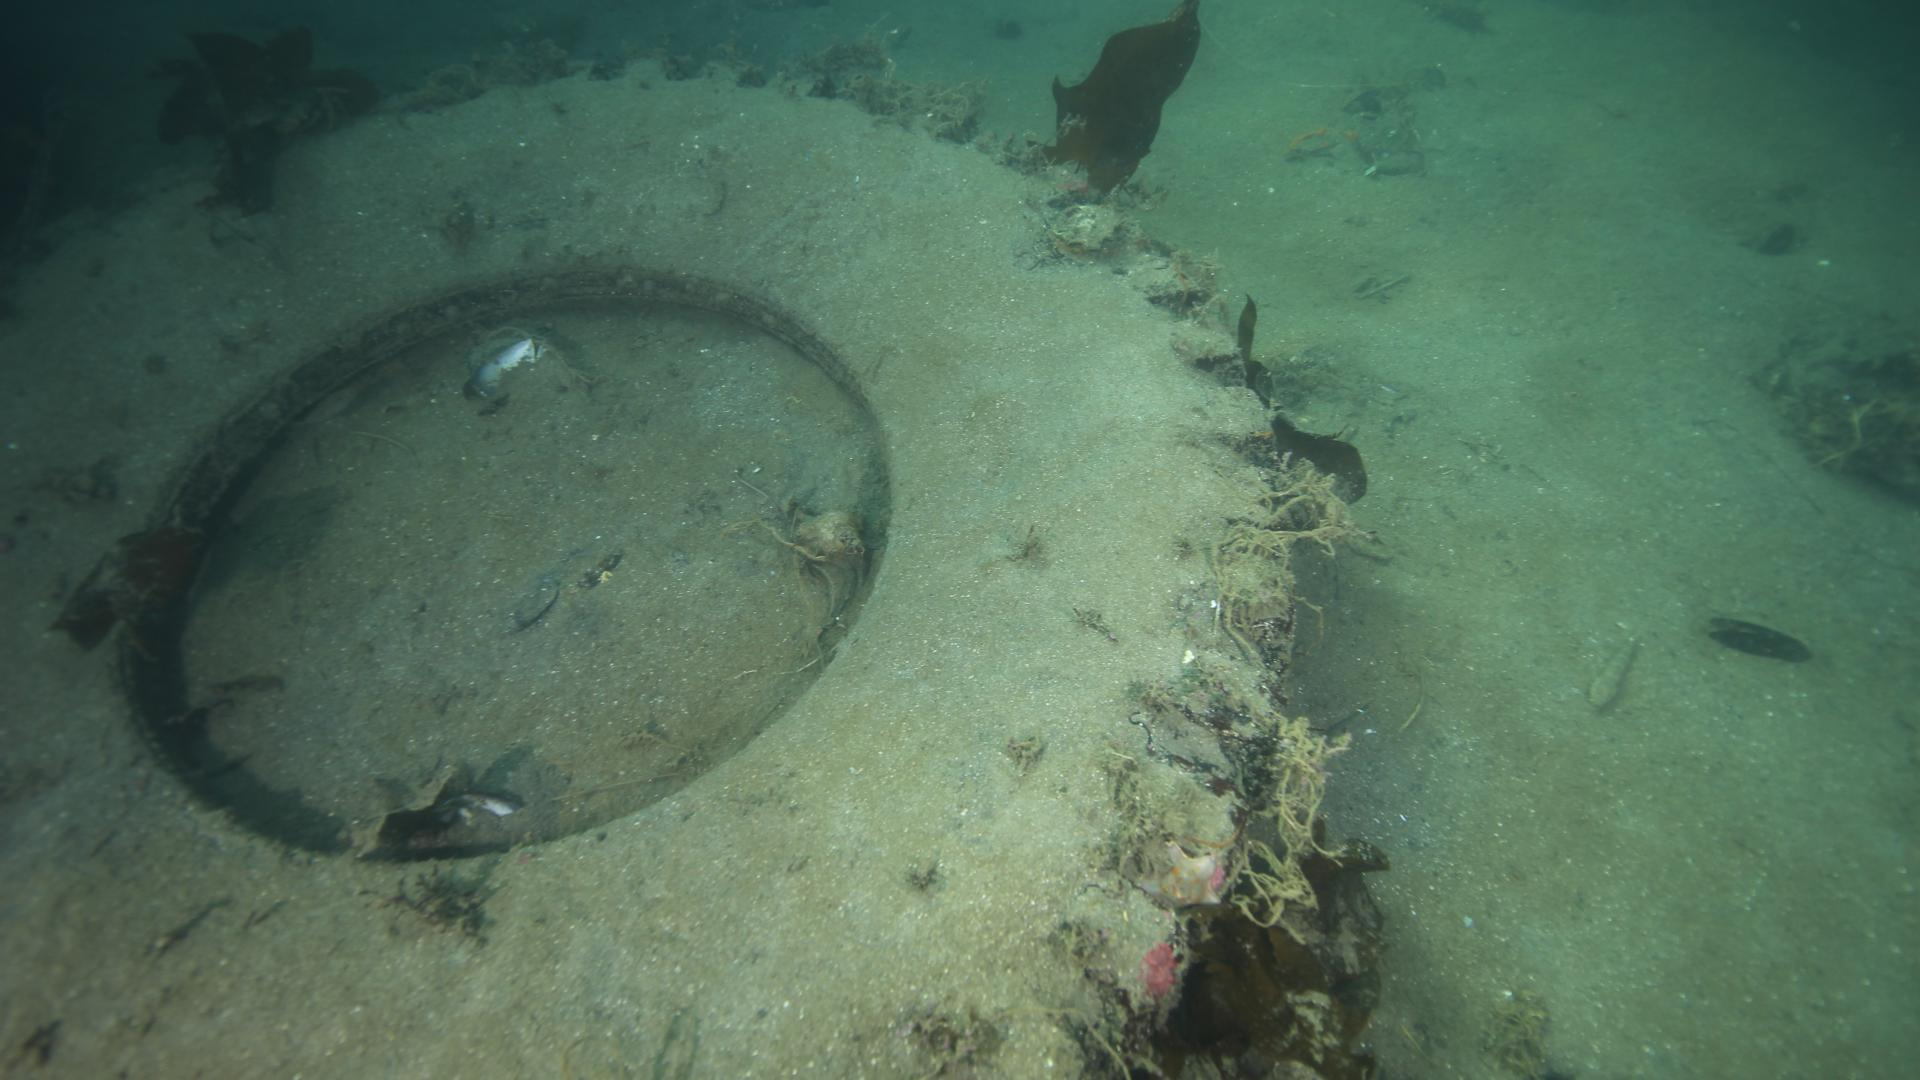tire: (0, 61, 1302, 1079)
